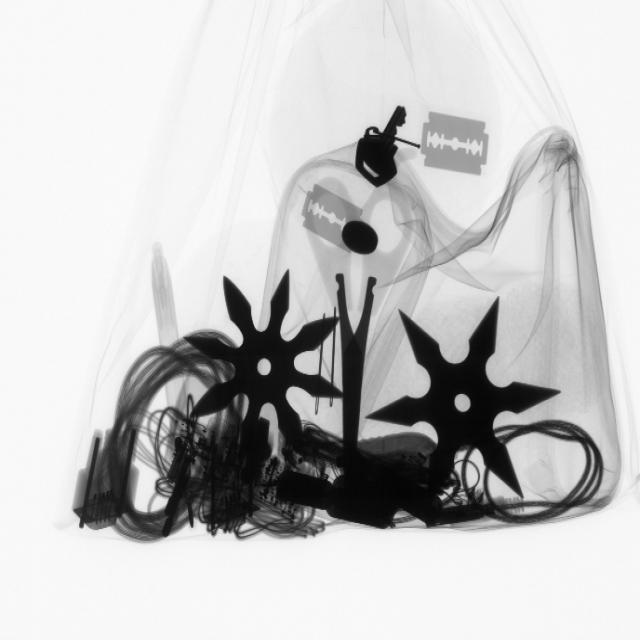BLADE: (417, 103, 500, 185), (299, 177, 366, 255)
SHURIKEN: (374, 296, 554, 504), (189, 265, 341, 474)
